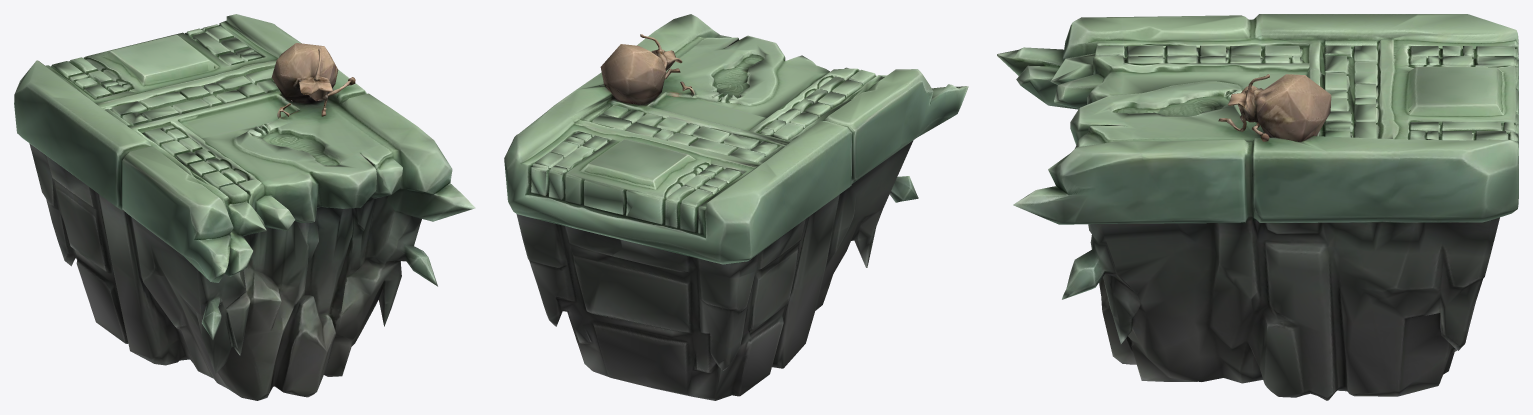
Rendered from ss_jielukongwang.glb.
The picture shows the model from 3 angles, left to right: view 1: azimuth 30°, elevation 25°; view 2: azimuth 150°, elevation 25°; view 3: azimuth 270°, elevation 25°; orthographic projection. The views are drawn at different scales.
Visible parts, largest first — view 1: tripo_node_c9f2d2ae-a058-46fd-99c8-50246cad4ec4; view 2: tripo_node_c9f2d2ae-a058-46fd-99c8-50246cad4ec4; view 3: tripo_node_c9f2d2ae-a058-46fd-99c8-50246cad4ec4.
Boxes of the visible parts, box(x1,y1,x2,y2) form: tripo_node_c9f2d2ae-a058-46fd-99c8-50246cad4ec4: box(14, 14, 475, 400); tripo_node_c9f2d2ae-a058-46fd-99c8-50246cad4ec4: box(504, 14, 968, 400); tripo_node_c9f2d2ae-a058-46fd-99c8-50246cad4ec4: box(997, 14, 1518, 400).
Size of the model in its own units: 0.6665 by 0.694 by 0.9996.
1 material, 1 textured.
